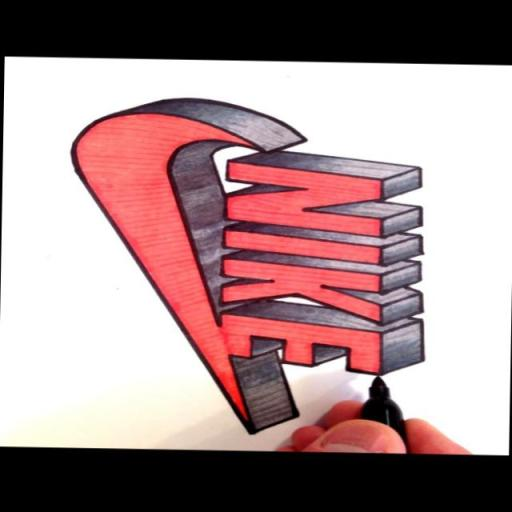Nike: (72, 108, 227, 372), (219, 164, 385, 377)
